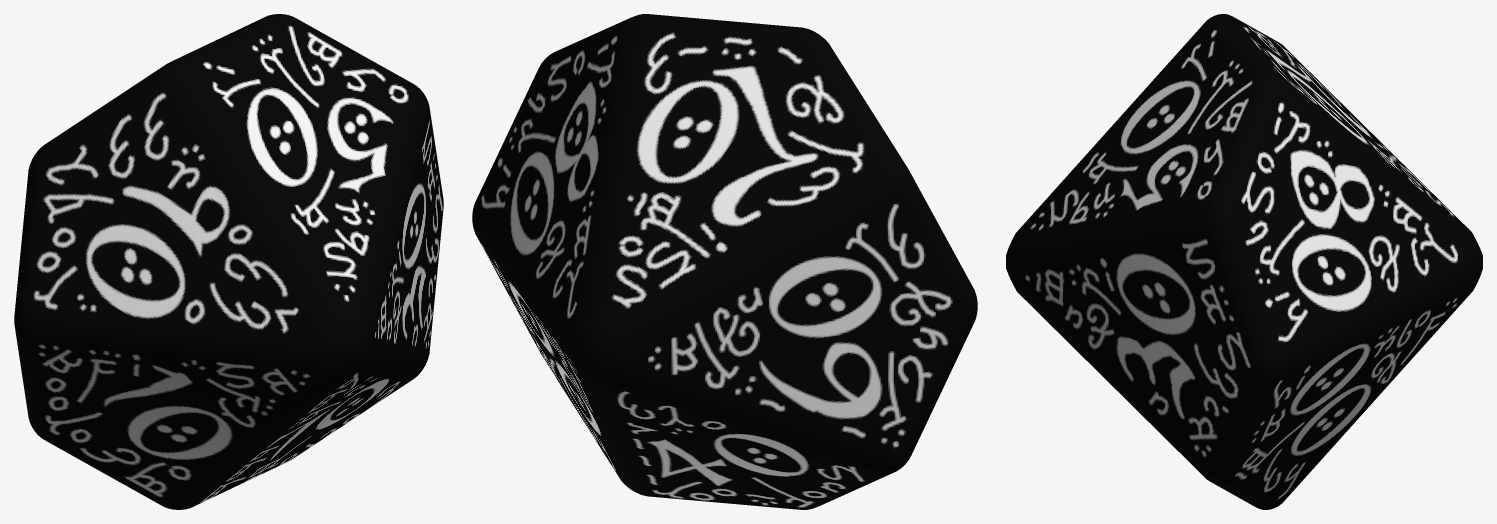
Rendered from elvish_SELV05_d100.glb.
3 views of the same model, side by side, from view 1: azimuth 30°, elevation 25°; view 2: azimuth 150°, elevation 25°; view 3: azimuth 270°, elevation 25° (orthographic). The views are drawn at different scales.
Visible parts, largest first — view 1: K10_obla_noweUV.001; view 2: K10_obla_noweUV.001; view 3: K10_obla_noweUV.001.
Part boxes in pixels (x1,y1,x2,y2): K10_obla_noweUV.001: [14, 14, 443, 509]; K10_obla_noweUV.001: [472, 14, 977, 509]; K10_obla_noweUV.001: [1006, 14, 1482, 509].
Bounding box in the file's own units: 169 × 161 × 161.
1 material, 1 textured.
